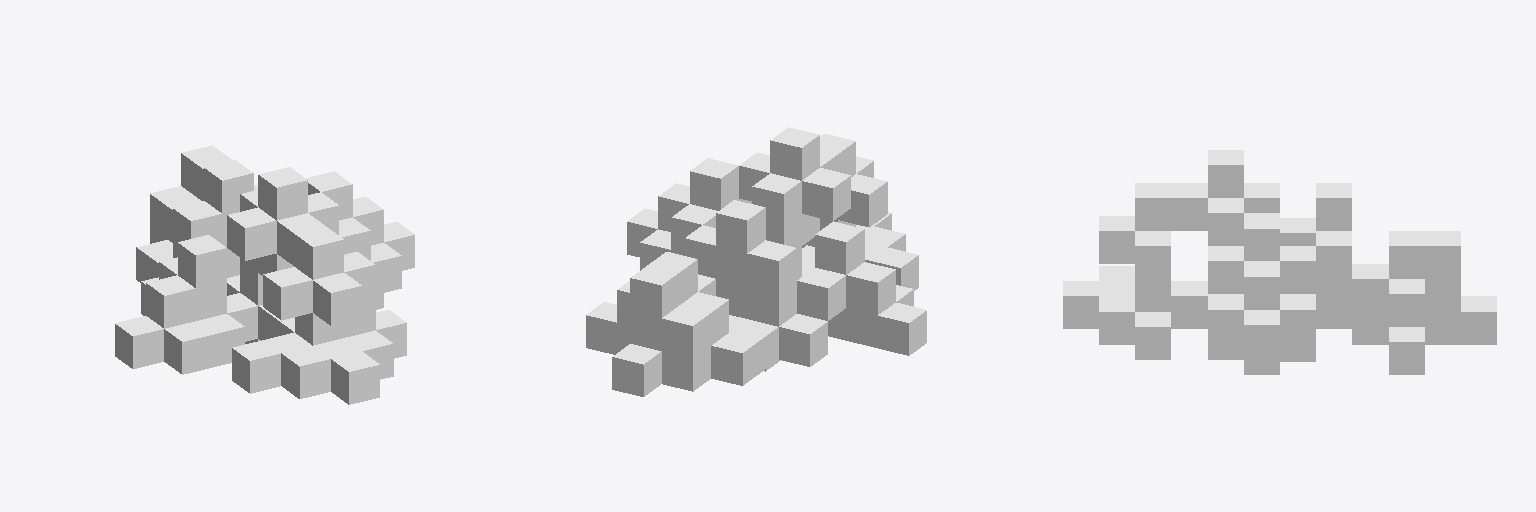
File: bush01.obj
3 renders of one model, left to right at view 1: azimuth 30°, elevation 25°; view 2: azimuth 150°, elevation 25°; view 3: azimuth 270°, elevation 25°, orthographic.
Visible parts, largest first — view 1: bush01; view 2: bush01; view 3: bush01.
Boxes of the visible parts, box(x1,y1,x2,y2) form: bush01: box(115, 145, 414, 404); bush01: box(586, 127, 926, 396); bush01: box(1063, 150, 1496, 374).
Bounding box in the file's own units: 9 × 6 × 12.